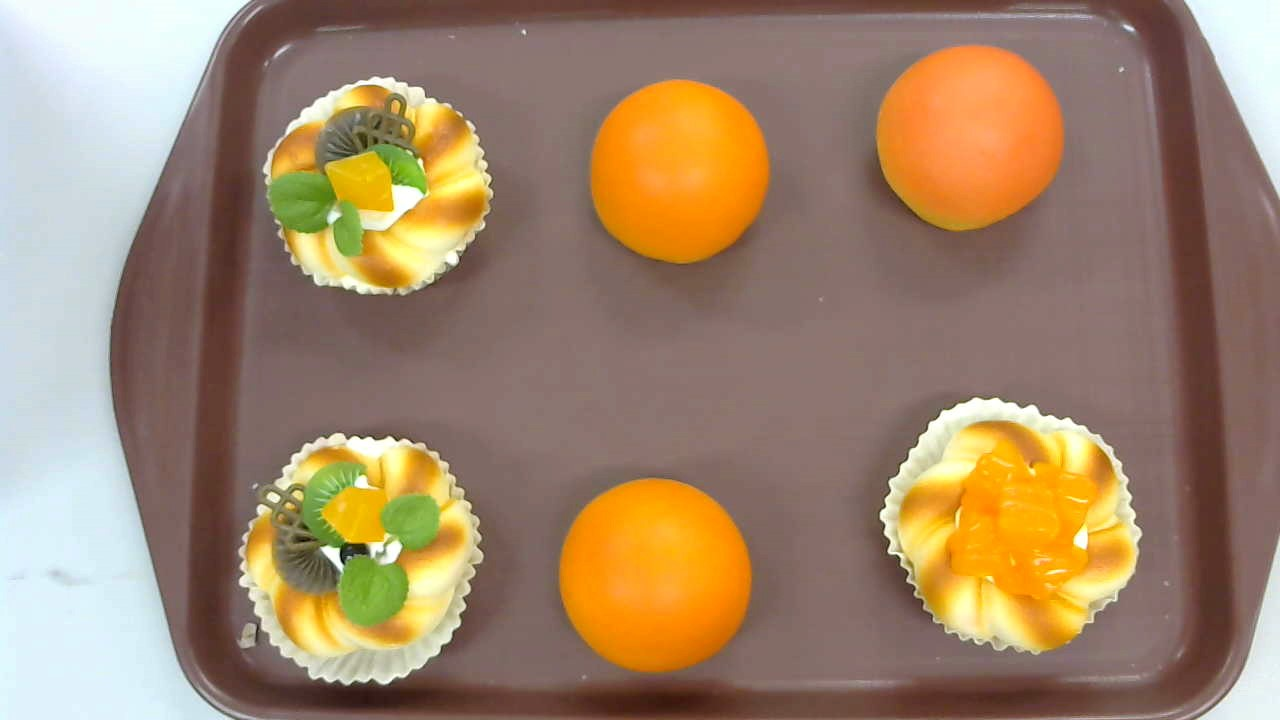bun: (560, 478, 752, 671), (876, 42, 1063, 232), (588, 80, 771, 264)
fruit tart: (239, 431, 485, 687), (260, 74, 493, 299)
mango tart: (880, 396, 1144, 653)
